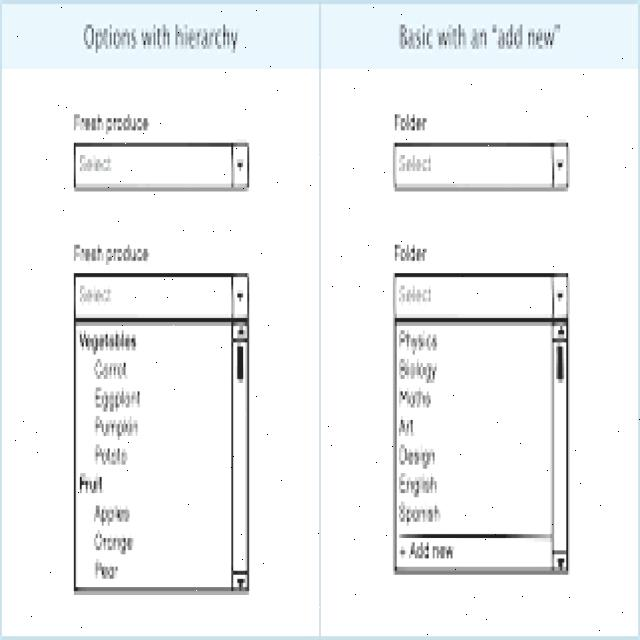dropdownMenu: (74, 273, 250, 599), (394, 272, 568, 573), (392, 142, 570, 190), (74, 142, 250, 190)
label: (395, 21, 566, 53), (81, 22, 241, 53), (67, 106, 157, 138), (72, 241, 154, 269), (388, 108, 430, 139), (391, 240, 432, 264)
menuItem: (76, 326, 142, 356), (395, 536, 459, 563), (92, 412, 143, 442), (92, 384, 142, 413), (397, 496, 443, 526), (397, 356, 439, 386), (397, 326, 440, 355), (397, 440, 438, 470), (92, 527, 136, 554), (397, 470, 439, 498), (92, 500, 135, 527), (91, 442, 134, 468), (91, 357, 132, 382), (74, 469, 109, 497), (92, 556, 129, 582), (397, 385, 435, 410), (397, 411, 417, 438)
